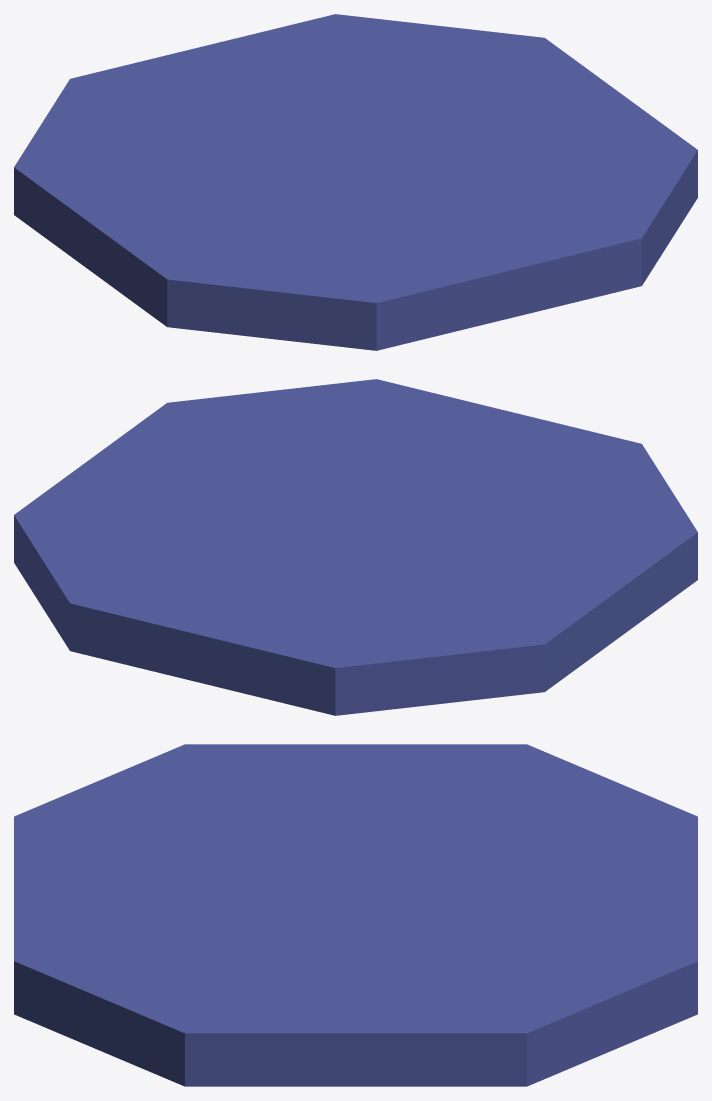
Rendered from CoL_TilingFloor6.fbx.
The picture shows the model from 3 angles, top to bottom: view 1: azimuth 30°, elevation 25°; view 2: azimuth 150°, elevation 25°; view 3: azimuth 270°, elevation 25°; orthographic projection. The views are drawn at different scales.
Visible parts, largest first — view 1: CoL_TilingFloor6; view 2: CoL_TilingFloor6; view 3: CoL_TilingFloor6.
Boxes of the visible parts, <box> form: CoL_TilingFloor6: <box>14,14,697,350</box>; CoL_TilingFloor6: <box>14,379,697,715</box>; CoL_TilingFloor6: <box>14,744,697,1086</box>.
Bounding box in the file's own units: 790 × 67.89 × 790.
